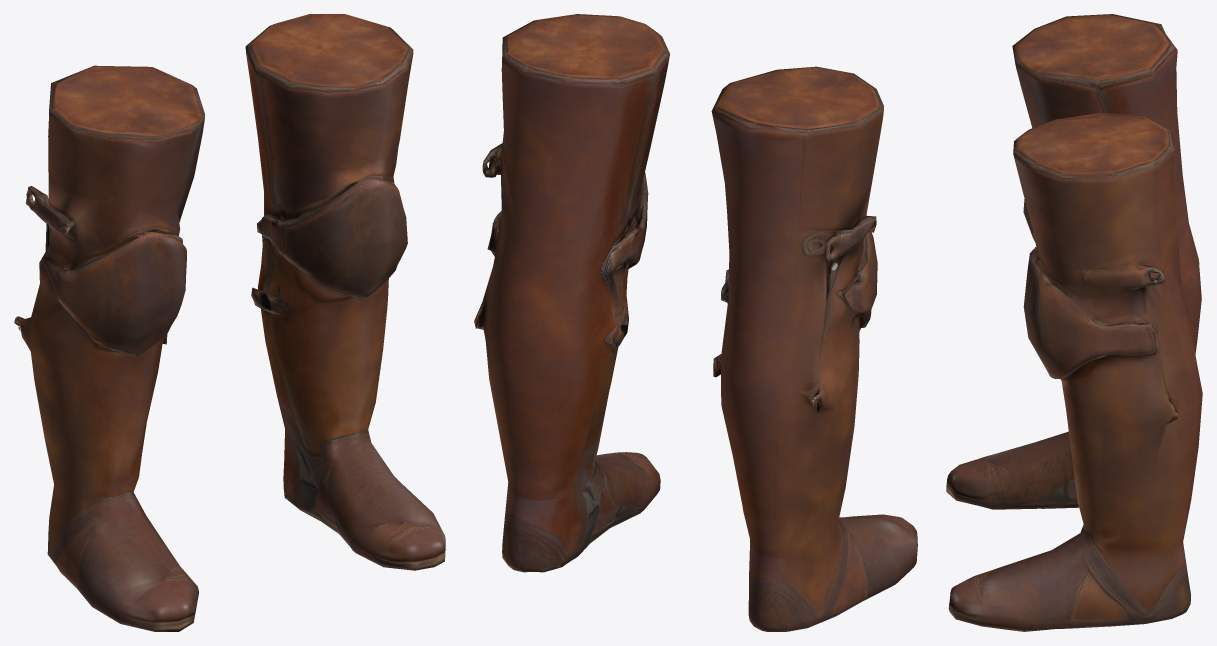
The model's file is legs-leather-leather_backup.glb.
The picture shows the model from 3 angles, left to right: view 1: azimuth 30°, elevation 25°; view 2: azimuth 150°, elevation 25°; view 3: azimuth 270°, elevation 25°; orthographic projection. The views are drawn at different scales.
Bounding box in the file's own units: 1.5 × 2 × 1.
1 material, 1 textured.
